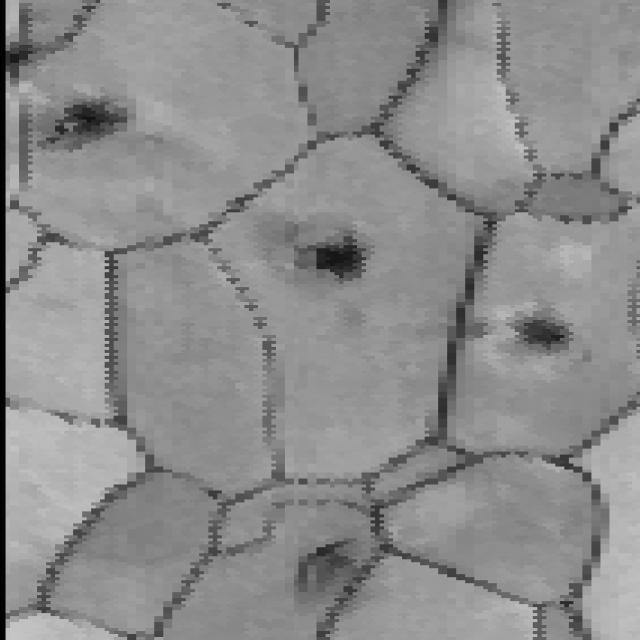good_void: (30, 93, 144, 163), (282, 535, 357, 612), (510, 309, 578, 367), (305, 227, 380, 279)
